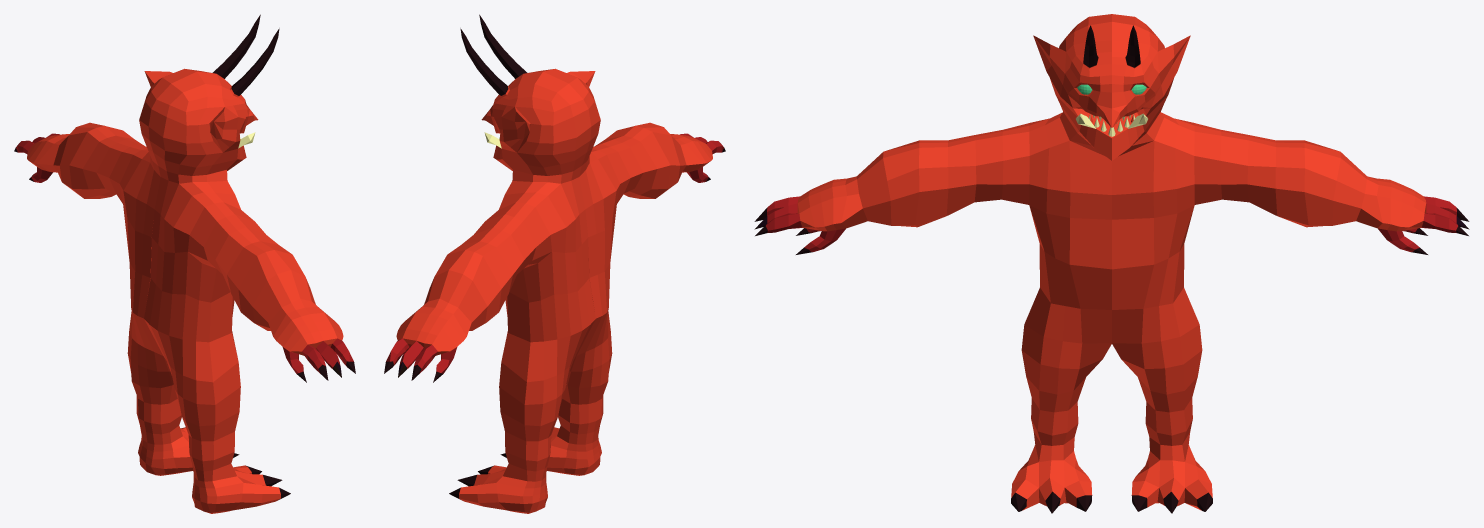
The model's file is ImpA.fbx.
3 views of the same model, side by side, from view 1: azimuth 30°, elevation 25°; view 2: azimuth 150°, elevation 25°; view 3: azimuth 270°, elevation 25° (orthographic). The views are drawn at different scales.
Visible parts, largest first — view 1: Sphere; view 2: Sphere; view 3: Sphere.
Part boxes in pixels (x1,y1,x2,y2): Sphere: (14,14,355,513); Sphere: (384,14,725,513); Sphere: (754,14,1469,513).
Size of the model in its own units: 199 by 677 by 856.
